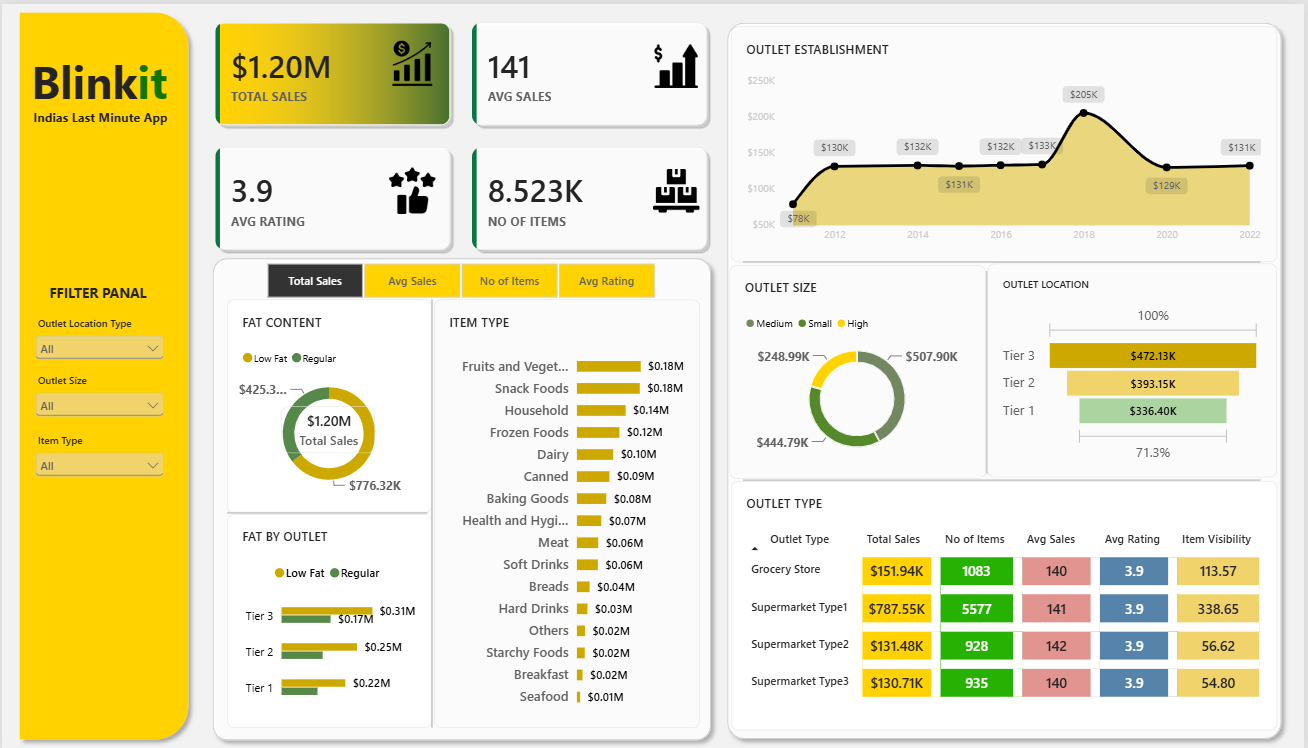

Layout of this report page (visuals, bound fields, positions):
{"tool":"powerbi","page":{"name":"Blinkit","canvas":[1400,800],"ordinal":0},"visuals":[{"type":"shape","box":[10.3,0,200,800],"z":0},{"type":"textbox","box":[33,111,147.6,28.6],"z":1000},{"type":"textbox","box":[12,50,186.7,64.4],"z":2000},{"type":"cardVisual","fields":{"Data":["Measures (2).Total Sales","Measures (2).Avg Sales","Measures (2).Avg Rating","Measures (2).No of Items"]},"box":[217.2,8.6,553.4,269],"z":3000},{"type":"image","box":[416.2,38.8,50,50],"z":4000},{"type":"image","box":[700,42.5,50,50],"z":5000},{"type":"image","box":[416.2,175,50,50],"z":6000},{"type":"image","box":[700,175,50,50],"z":7000},{"type":"shape","box":[217.2,263.8,553.4,536.2],"z":8000},{"type":"donutChart","title":"FAT CONTENT","fields":{"Category":["BlinkIT Grocery Data.Item Fat Content"],"Y":["Measures (2).Total Sales"]},"box":[241.4,317.2,220,230.2],"z":9000},{"type":"slicer","fields":{"Values":["Metric.Metric"]},"box":[263.8,277.6,456,40],"z":10000},{"type":"cardVisual","fields":{"Data":["Measures (2).Total Sales"]},"box":[300,432.8,101.7,51.7],"z":11000},{"type":"clusteredBarChart","title":"FAT BY OUTLET","fields":{"Category":["BlinkIT Grocery Data.Outlet Location Type"],"Series":["BlinkIT Grocery Data.Item Fat Content"],"Y":["Measures (2).Total Sales"]},"box":[241.4,548.3,220,230],"z":12000},{"type":"shape","box":[241.4,529.3,215.5,36.2],"z":13000},{"type":"shape","box":[434.5,317.2,56.9,460.3],"z":14000},{"type":"clusteredBarChart","title":"ITEM TYPE","fields":{"Category":["BlinkIT Grocery Data.Item Type"],"Y":["Measures (2).Total Sales"]},"box":[463.8,317.2,286.2,460.3],"z":15000},{"type":"shape","box":[770.7,12.1,613.8,787.9],"z":16000},{"type":"lineChart","title":"OUTLET ESTABLISHMENT","fields":{"Category":["BlinkIT Grocery Data.Outlet Establishment Year"],"Y":["Measures (2).Total Sales"]},"box":[783.9,24.2,587.1,253.2],"z":17000},{"type":"shape","box":[796.8,259.7,556.5,35.5],"z":18000},{"type":"donutChart","title":"OUTLET SIZE","fields":{"Category":["BlinkIT Grocery Data.Outlet Size"],"Y":["Measures (2).Total Sales"]},"box":[781.7,280.6,275,230],"z":19000},{"type":"shape","box":[1030.6,287.1,56.5,217.7],"z":20000},{"type":"funnel","title":"OUTLET LOCATION","fields":{"Category":["BlinkIT Grocery Data.Outlet Location Type"],"Y":["Measures (2).Total Sales"]},"box":[1059.7,279,311.3,230],"z":21000},{"type":"shape","box":[796.8,495.2,556.5,33.9],"z":22000},{"type":"pivotTable","title":"OUTLET TYPE","fields":{"Rows":["BlinkIT Grocery Data.Outlet Type"],"Values":["Measures (2).Total Sales","Measures (2).No of Items","Measures (2).Avg Sales","Measures (2).Avg Rating","Sum(BlinkIT Grocery Data.Item Visibility)"]},"box":[783.9,512.9,587.1,267.7],"z":23000},{"type":"slicer","fields":{"Values":["BlinkIT Grocery Data.Outlet Location Type"]},"box":[30.6,335.5,148.4,71],"z":23001},{"type":"slicer","fields":{"Values":["BlinkIT Grocery Data.Outlet Size"]},"box":[30.6,396.8,148.4,71],"z":23002},{"type":"slicer","fields":{"Values":["BlinkIT Grocery Data.Item Type"]},"box":[30.6,461.3,148.4,71],"z":23003},{"type":"textbox","box":[36,300,135.5,29],"z":23004}]}

Visuals, with their boxes in screenshot pixels (x1, y1, x2, y2), scaled from the page's 1400x800 canvas onto the 1308x748 screenshot:
shape: left=10, top=0, right=196, bottom=747
textbox: left=31, top=104, right=169, bottom=131
textbox: left=11, top=47, right=186, bottom=107
cardVisual - Measures (2).Total Sales x Measures (2).Avg Sales: left=203, top=8, right=720, bottom=260
image: left=389, top=36, right=436, bottom=83
image: left=654, top=40, right=701, bottom=86
image: left=389, top=164, right=436, bottom=210
image: left=654, top=164, right=701, bottom=210
shape: left=203, top=247, right=720, bottom=747
"FAT CONTENT" donutChart: left=226, top=297, right=431, bottom=512
slicer - Metric.Metric: left=246, top=260, right=672, bottom=297
cardVisual - Measures (2).Total Sales: left=280, top=405, right=375, bottom=453
"FAT BY OUTLET" clusteredBarChart: left=226, top=513, right=431, bottom=728
shape: left=226, top=495, right=427, bottom=529
shape: left=406, top=297, right=459, bottom=727
"ITEM TYPE" clusteredBarChart: left=433, top=297, right=701, bottom=727
shape: left=720, top=11, right=1294, bottom=747
"OUTLET ESTABLISHMENT" lineChart: left=732, top=23, right=1281, bottom=259
shape: left=744, top=243, right=1264, bottom=276
"OUTLET SIZE" donutChart: left=730, top=262, right=987, bottom=477
shape: left=963, top=268, right=1016, bottom=472
"OUTLET LOCATION" funnel: left=990, top=261, right=1281, bottom=476
shape: left=744, top=463, right=1264, bottom=495
"OUTLET TYPE" pivotTable: left=732, top=480, right=1281, bottom=730
slicer - BlinkIT Grocery Data.Outlet Location Type: left=29, top=314, right=167, bottom=380
slicer - BlinkIT Grocery Data.Outlet Size: left=29, top=371, right=167, bottom=437
slicer - BlinkIT Grocery Data.Item Type: left=29, top=431, right=167, bottom=498
textbox: left=34, top=280, right=160, bottom=308
